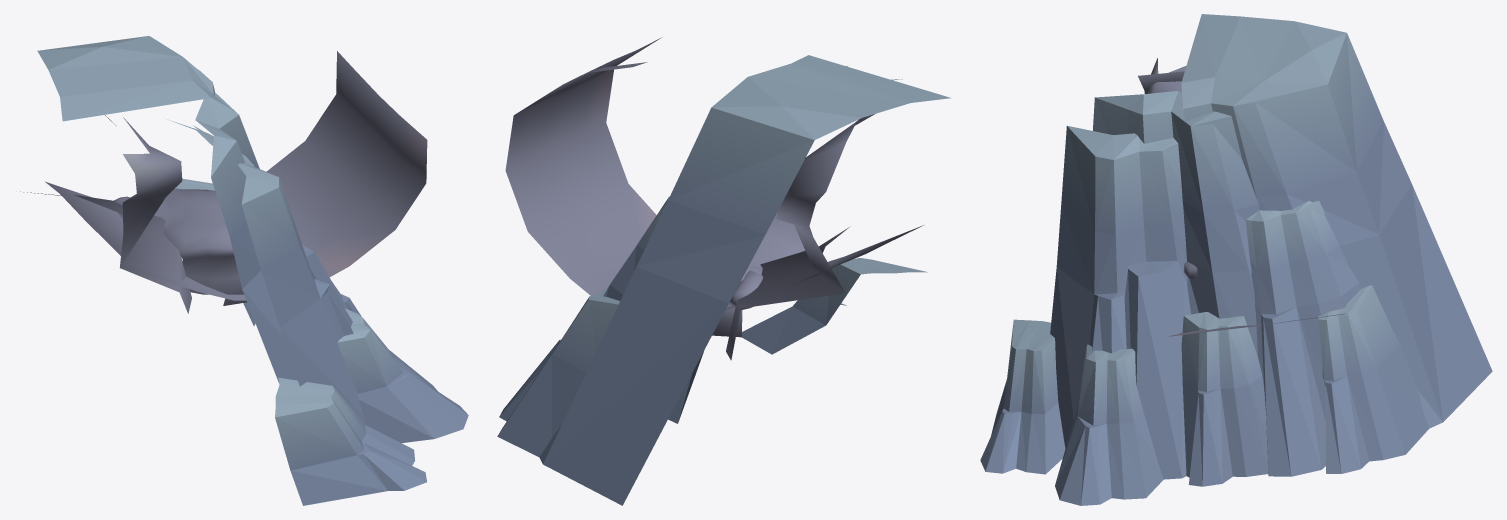
File: Arctic_Luge_TunnelObstacle_Right_Mid_A.glb
The picture shows the model from 3 angles, left to right: view 1: azimuth 30°, elevation 25°; view 2: azimuth 150°, elevation 25°; view 3: azimuth 270°, elevation 25°; orthographic projection. The views are drawn at different scales.
Parts seen in each view (by area): view 1: Arctic_Luge_TunnelObstacle_Right_Mid_A, Arctic_Narrows_Right_IceWall_A01, Arctic_Narrows_Right_IceWall_A01_Left; view 2: Arctic_Narrows_Right_IceWall_A01, Arctic_Luge_TunnelObstacle_Right_Mid_A, Arctic_Narrows_Right_IceWall_A01_Right, Arctic_Narrows_Right_IceWall_A01_Left, Arctic_Narrows_Right_IceWall_A01_Mid; view 3: Arctic_Narrows_Right_IceWall_A01, Arctic_Narrows_Right_IceWall_A01_Mid, Arctic_Narrows_Right_IceWall_A01_Left, Arctic_Narrows_Right_IceWall_A01_Right, Arctic_Luge_TunnelObstacle_Right_Mid_A.
Part boxes in pixels (bbox=[...]): Arctic_Luge_TunnelObstacle_Right_Mid_A: bbox=[20, 51, 427, 313]; Arctic_Narrows_Right_IceWall_A01: bbox=[37, 36, 364, 424]; Arctic_Narrows_Right_IceWall_A01_Left: bbox=[275, 308, 468, 505]; Arctic_Narrows_Right_IceWall_A01: bbox=[539, 55, 950, 505]; Arctic_Luge_TunnelObstacle_Right_Mid_A: bbox=[505, 37, 923, 360]; Arctic_Narrows_Right_IceWall_A01_Right: bbox=[497, 289, 619, 457]; Arctic_Narrows_Right_IceWall_A01_Left: bbox=[742, 258, 927, 354]; Arctic_Narrows_Right_IceWall_A01_Mid: bbox=[603, 196, 669, 300]; Arctic_Narrows_Right_IceWall_A01: bbox=[1050, 14, 1492, 479]; Arctic_Narrows_Right_IceWall_A01_Mid: bbox=[1181, 200, 1360, 486]; Arctic_Narrows_Right_IceWall_A01_Left: bbox=[980, 319, 1163, 505]; Arctic_Narrows_Right_IceWall_A01_Right: bbox=[1318, 285, 1429, 473]; Arctic_Luge_TunnelObstacle_Right_Mid_A: bbox=[1138, 58, 1346, 336].
Size of what is drawn, in the model's own units: 5.45 by 5.41 by 7.12.
